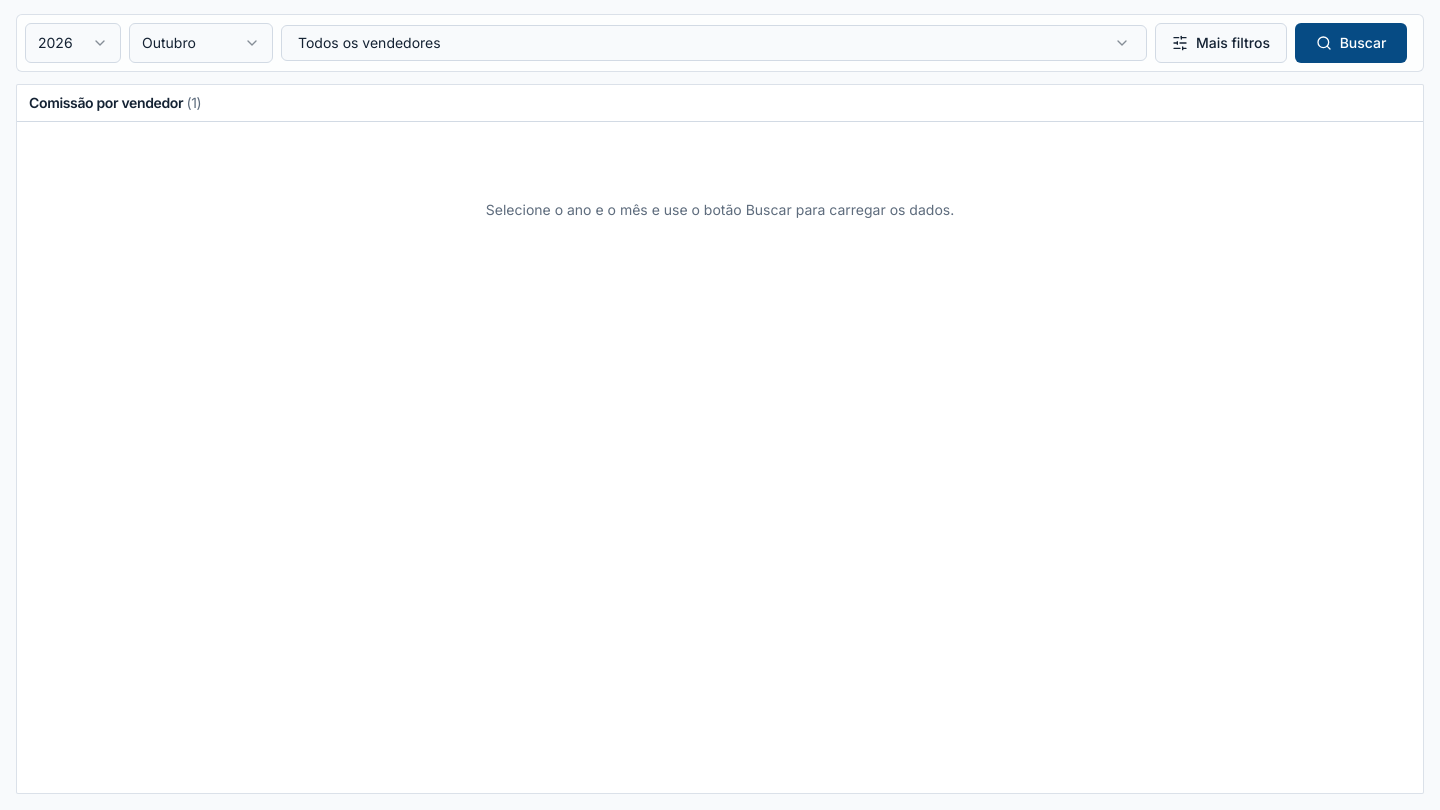
Test: ComissaoPage › mantem a tabela resumida na viewport compartilhada apos buscar
Click the button "Buscar".
click(1351, 43)  # box [1295, 23, 1407, 63]
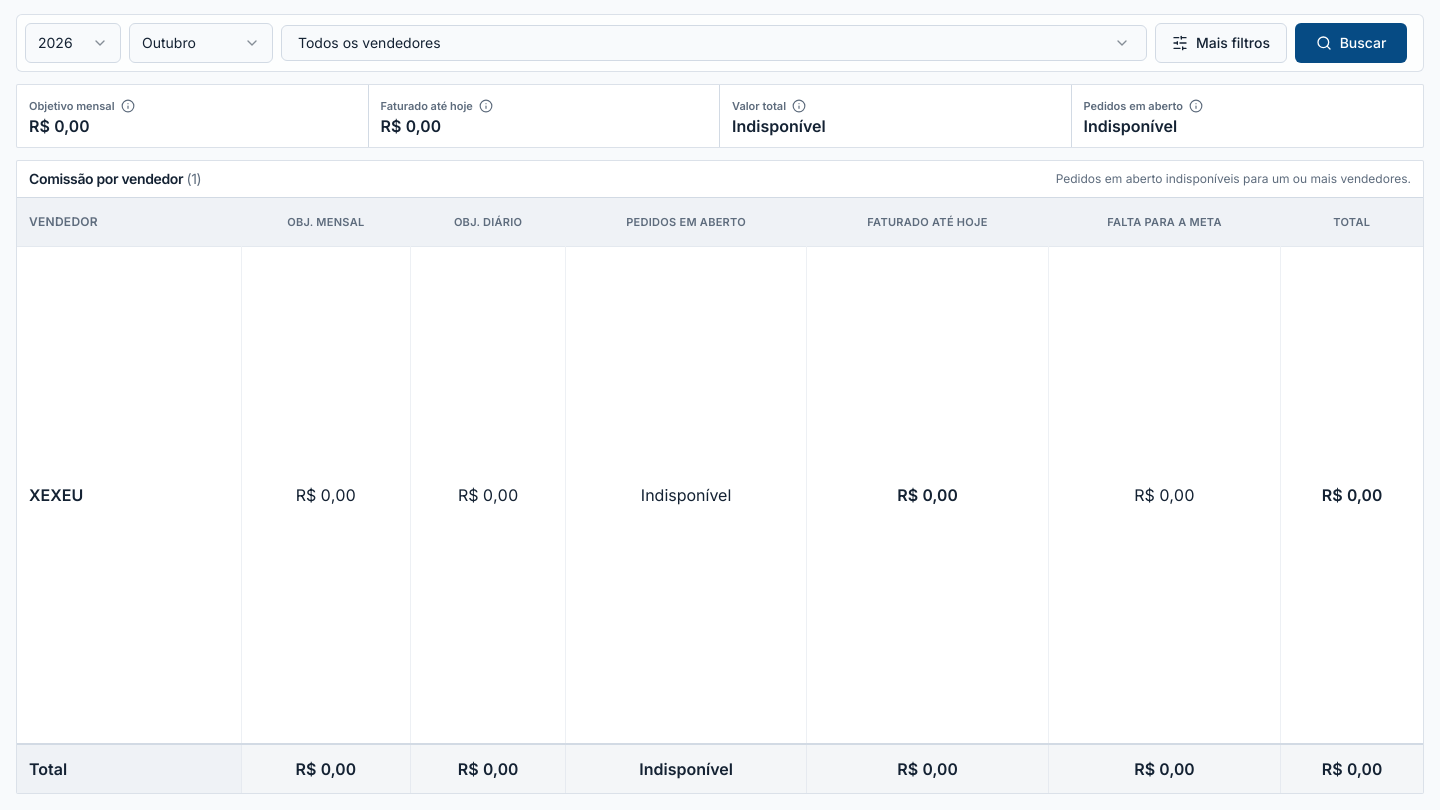
Expected: the column heading "Obj. mensal" is shown, [241, 198, 411, 246]
Expected: the column heading "Obj. diário" is shown, [411, 198, 566, 246]
Expected: the column heading "Pedidos em aberto" is shown, [566, 198, 807, 246]
